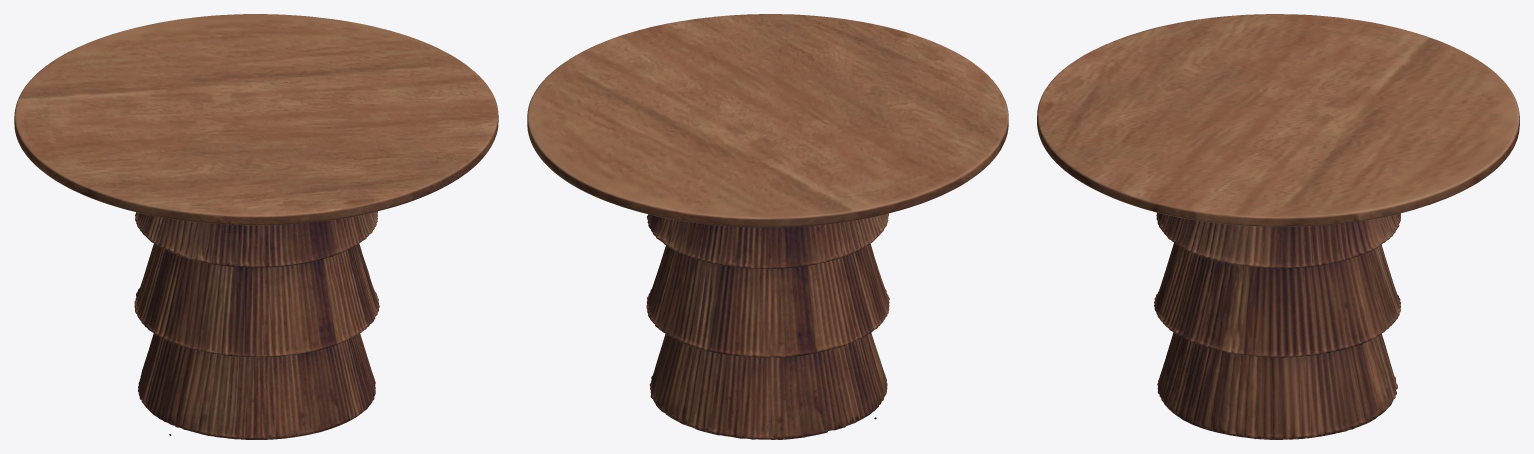
3 views of the same model, side by side, from view 1: azimuth 30°, elevation 25°; view 2: azimuth 150°, elevation 25°; view 3: azimuth 270°, elevation 25° (orthographic).
Parts seen in each view (by area): view 1: world; view 2: world; view 3: world.
Boxes of the visible parts, left/top/right/bottom form: world: left=14, top=14, right=498, bottom=439; world: left=527, top=14, right=1008, bottom=439; world: left=1037, top=14, right=1519, bottom=439.
Size of the model in its own units: 0.9999 by 0.6618 by 1.
Materials: 1 (1 with a texture image).
